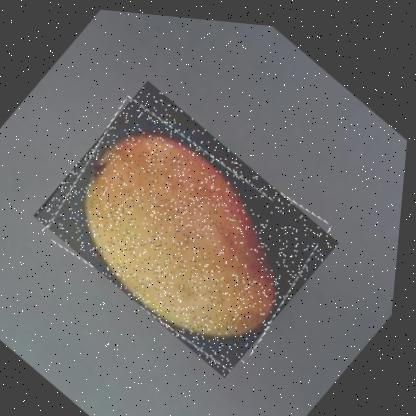mango: (26, 69, 353, 381)
